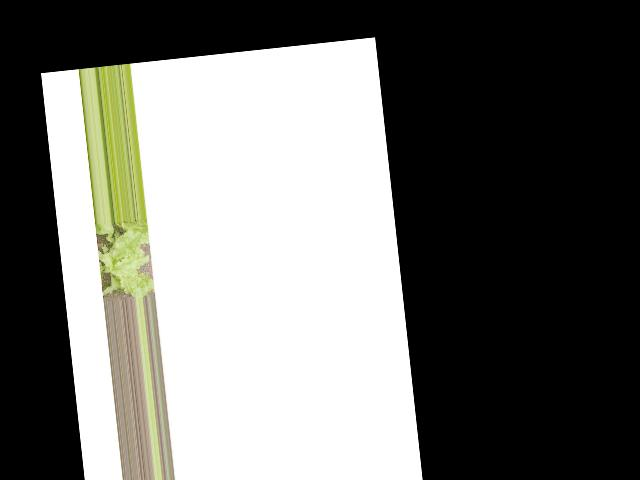lettuce: (91, 218, 152, 301)
